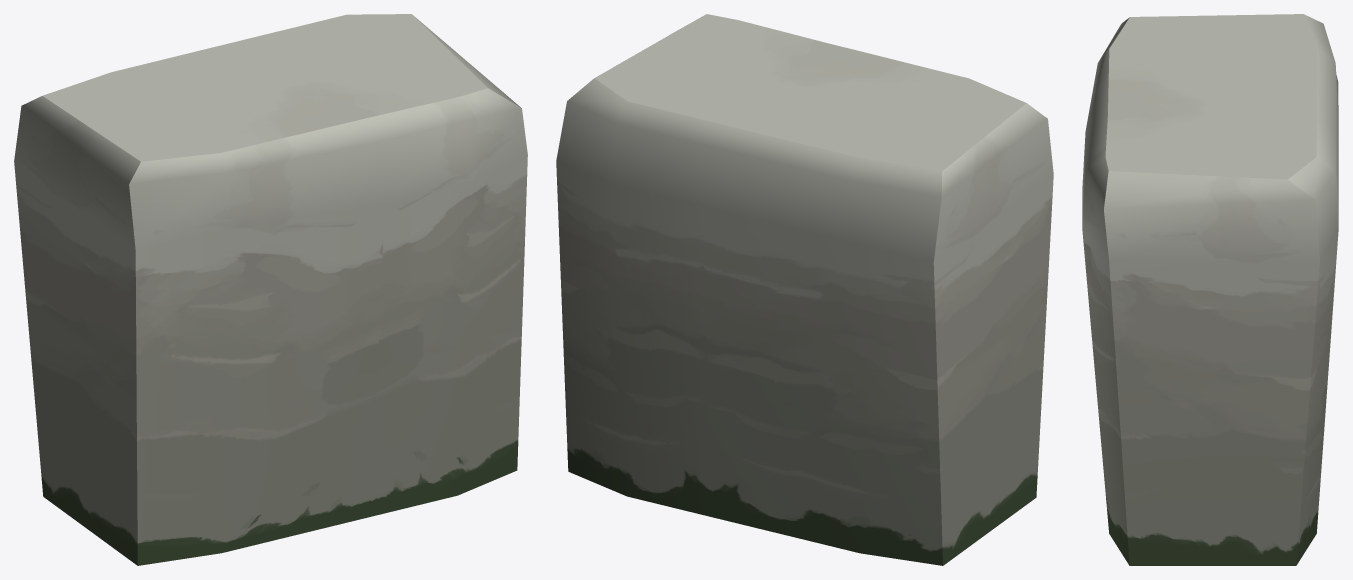
Rendered from Stone_01.fbx.
3 views of the same model, side by side, from view 1: azimuth 30°, elevation 25°; view 2: azimuth 150°, elevation 25°; view 3: azimuth 270°, elevation 25° (orthographic). The views are drawn at different scales.
Parts seen in each view (by area): view 1: StoneBlock_01; view 2: StoneBlock_01; view 3: StoneBlock_01.
Part boxes in pixels (<box>): StoneBlock_01: <box>14,14,527,565</box>; StoneBlock_01: <box>556,14,1053,565</box>; StoneBlock_01: <box>1082,14,1338,565</box>.
Bounding box in the file's own units: 10.27 × 10 × 6.17.
